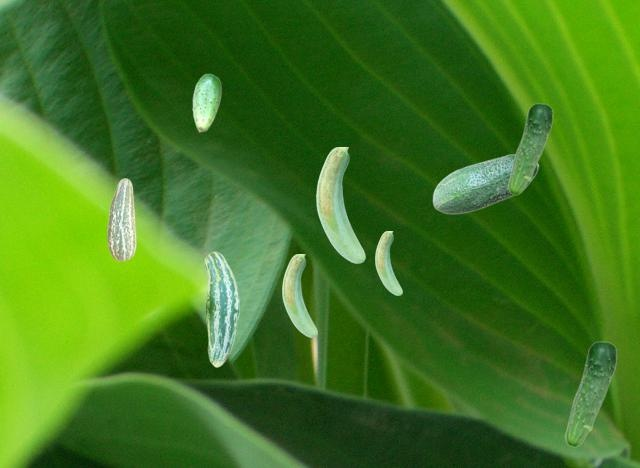cucumber: (432, 153, 538, 213), (316, 147, 364, 262), (564, 341, 616, 446), (507, 103, 552, 194), (204, 251, 238, 366), (282, 254, 316, 336), (107, 178, 135, 260), (375, 231, 401, 294), (192, 73, 220, 131)
